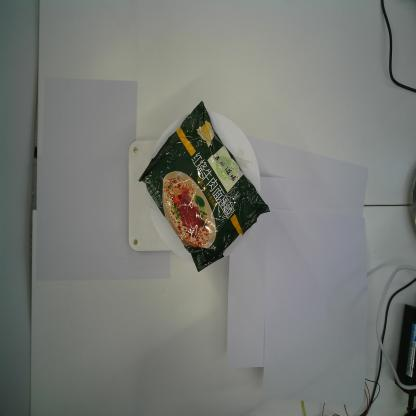Instant Noodles: (137, 98, 272, 274)
